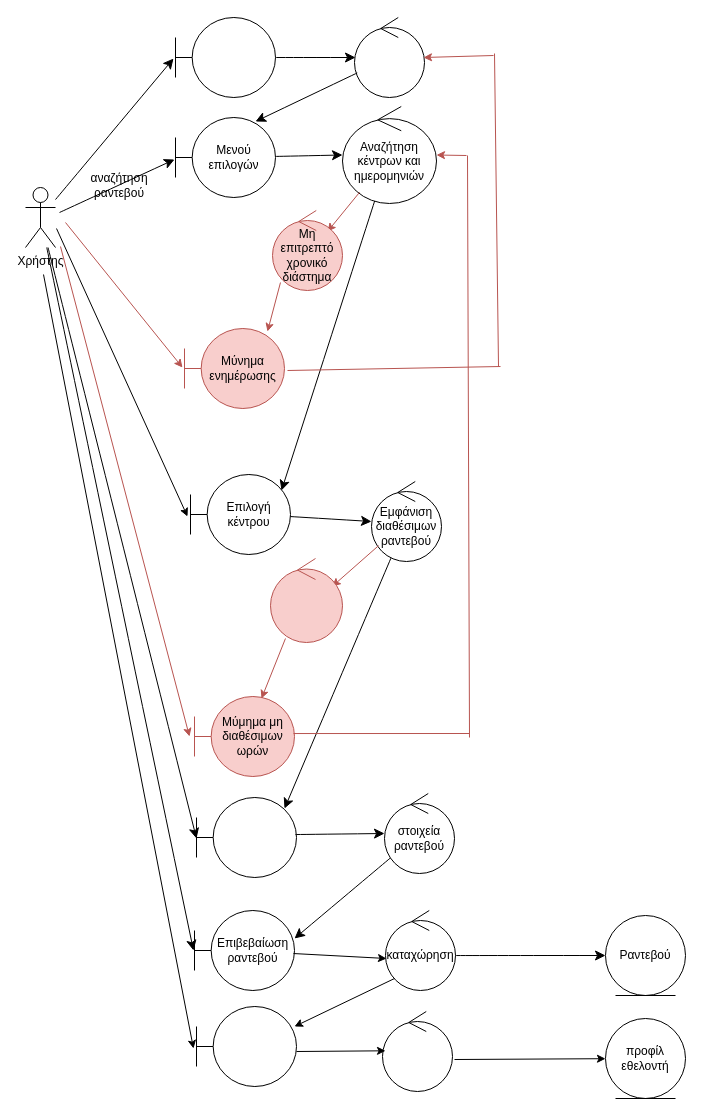
Image size: 703x1116. Some labels were removed from this diagram. Here are the shapes that lost their labels. From the top down, the centre of each, then its label:
the point at 225,57: Σύνδεση
the point at 389,57: Φόρτωση αρχικής σελίδας
the point at 306,600: εντοπισμός μη διαθέσιμων ωρών
the point at 246,837: Επιλογή ραντεβού
the point at 246,1046: Μύνημα επιτυχούς προγραμματισμού
the point at 417,1051: προετοιμασία αλλαγών
